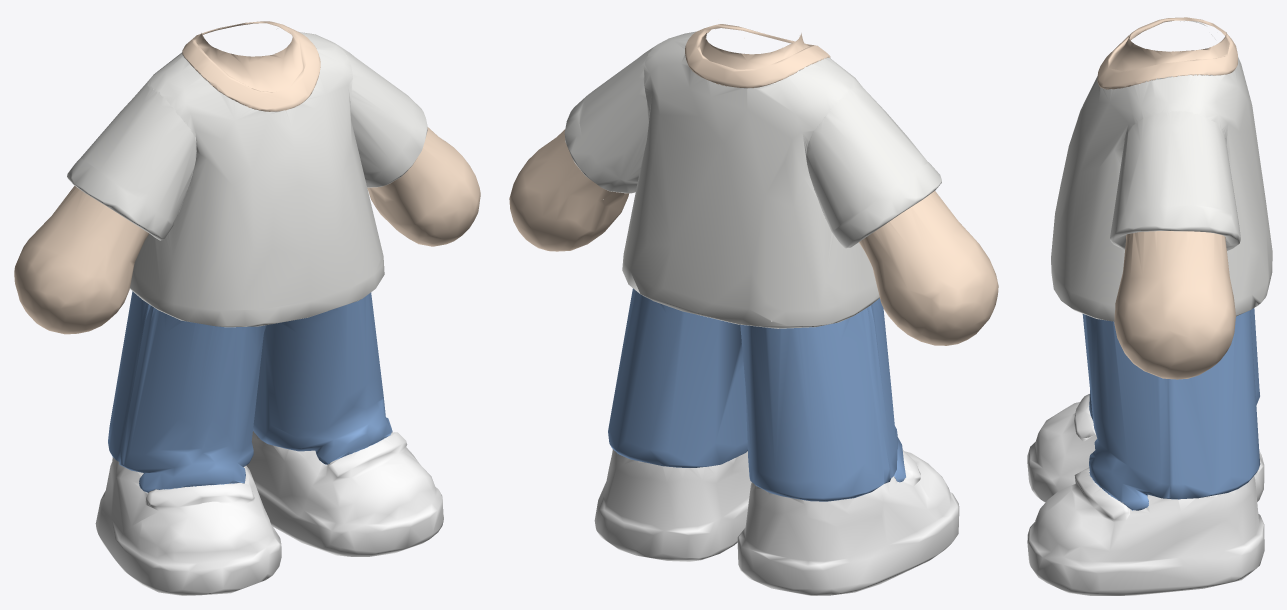
The model's file is outfit_teejeans.glb.
The picture shows the model from 3 angles, left to right: view 1: azimuth 30°, elevation 25°; view 2: azimuth 150°, elevation 25°; view 3: azimuth 270°, elevation 25°; orthographic projection. The views are drawn at different scales.
Visible parts, largest first — view 1: top, bottom, shoe_r, shoe_l, hand_r, sleeve_r, hand_l, neck, sleeve_l; view 2: top, bottom, shoe_r, hand_r, shoe_l, sleeve_r, hand_l, sleeve_l, neck; view 3: top, bottom, shoe_l, hand_l, sleeve_l, shoe_r, neck.
Part boxes in pixels (x1,y1,x2,y2): top: (130,31,384,327); bottom: (108,291,392,492); shoe_r: (95,457,281,595); shoe_l: (246,431,443,556); hand_r: (14,185,149,334); sleeve_r: (67,85,196,240); hand_l: (367,127,480,246); neck: (182,21,320,111); sleeve_l: (338,45,427,187); top: (622,31,879,328); bottom: (608,288,905,501); shoe_r: (737,450,959,595); hand_r: (859,191,998,345); shoe_l: (594,449,751,561); sleeve_r: (806,86,941,248); hand_l: (509,129,629,251); sleeve_l: (564,46,655,193); neck: (685,24,830,88); top: (1051,20,1272,321); bottom: (1082,308,1260,510); shoe_l: (1027,467,1264,595); hand_l: (1114,231,1235,379); sleeve_l: (1110,111,1240,250); shoe_r: (1027,394,1264,502); neck: (1097,17,1237,89).
Size of the model in its own units: 0.557 by 0.5809 by 0.2614.
